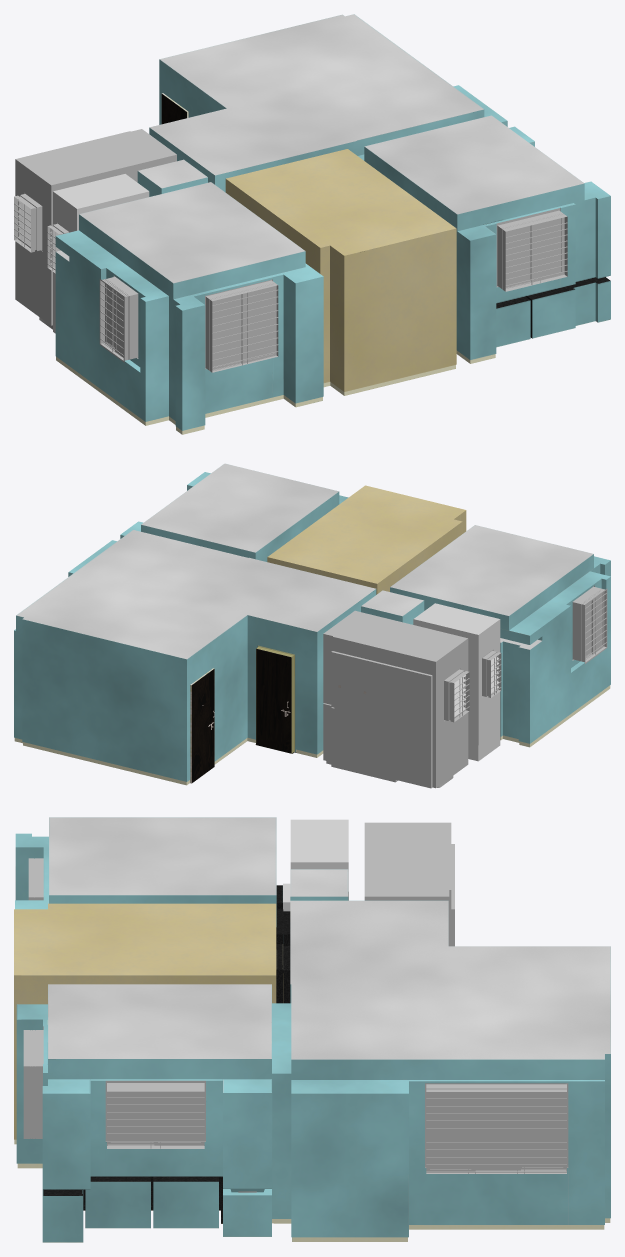
Rendered from Shantai - Third Floor.fbx.
The picture shows the model from 3 angles, top to bottom: view 1: azimuth 30°, elevation 25°; view 2: azimuth 150°, elevation 25°; view 3: azimuth 270°, elevation 25°; orthographic projection. The views are drawn at different scales.
Visible parts, largest first — view 1: Room Layout, Hall Layout, Balcony Layout, Kitchen Layout, Bathroom Layout, Toilet Layout, Kitchen Window Frame Thin, Room Window Frame Wide, Room Window Frame Thin, Room Window Wide Left Glass, Room Window Wide Right Glass, Basin Area Layout (+4 smaller); view 2: Hall Layout, Room Layout, Bathroom Layout, Balcony Layout, Kitchen Layout, Toilet Layout, Hall Door Secondary, Hall Door Primary, Room Window Frame Thin, Basin Area Layout, Bathroom Window Frame, Toilet Window Frame; view 3: Hall Layout, Kitchen Layout, Balcony Layout, Room Layout, Bathroom Layout, Hall Window Frame, Toilet Layout, Kitchen Window Frame Wide, Hall Window Right Glass, Hall Window Left Glass, Hall Window Center Glass, Kitchen Window Frame Thin (+5 smaller).
Boxes of the visible parts, x1=… form: Room Layout: x1=55, y1=182, x2=323, y2=434; Hall Layout: x1=149, y1=14, x2=507, y2=192; Balcony Layout: x1=225, y1=149, x2=456, y2=395; Kitchen Layout: x1=356, y1=109, x2=610, y2=363; Bathroom Layout: x1=15, y1=129, x2=176, y2=325; Toilet Layout: x1=53, y1=174, x2=149, y2=333; Kitchen Window Frame Thin: x1=496, y1=208, x2=567, y2=291; Room Window Frame Wide: x1=205, y1=279, x2=278, y2=372; Room Window Frame Thin: x1=99, y1=276, x2=138, y2=362; Room Window Wide Left Glass: x1=244, y1=286, x2=273, y2=360; Room Window Wide Right Glass: x1=212, y1=294, x2=241, y2=366; Basin Area Layout: x1=137, y1=158, x2=214, y2=196; Hall Layout: x1=14, y1=530, x2=375, y2=785; Room Layout: x1=390, y1=525, x2=610, y2=747; Bathroom Layout: x1=323, y1=610, x2=468, y2=788; Balcony Layout: x1=267, y1=485, x2=466, y2=594; Kitchen Layout: x1=120, y1=463, x2=348, y2=561; Toilet Layout: x1=413, y1=603, x2=500, y2=761; Hall Door Secondary: x1=256, y1=648, x2=291, y2=753; Hall Door Primary: x1=190, y1=668, x2=214, y2=783; Room Window Frame Thin: x1=572, y1=585, x2=607, y2=663; Basin Area Layout: x1=354, y1=589, x2=424, y2=624; Bathroom Window Frame: x1=444, y1=668, x2=469, y2=722; Toilet Window Frame: x1=482, y1=650, x2=501, y2=697; Hall Layout: x1=283, y1=900, x2=610, y2=1241; Kitchen Layout: x1=16, y1=984, x2=291, y2=1242; Balcony Layout: x1=14, y1=903, x2=283, y2=1144; Room Layout: x1=15, y1=817, x2=283, y2=943; Bathroom Layout: x1=364, y1=822, x2=454, y2=946; Hall Window Frame: x1=425, y1=1083, x2=568, y2=1173; Toilet Layout: x1=283, y1=819, x2=348, y2=911; Kitchen Window Frame Wide: x1=105, y1=1080, x2=205, y2=1148; Hall Window Right Glass: x1=430, y1=1092, x2=471, y2=1168; Hall Window Left Glass: x1=522, y1=1092, x2=563, y2=1167; Hall Window Center Glass: x1=476, y1=1092, x2=516, y2=1168; Kitchen Window Frame Thin: x1=23, y1=1026, x2=43, y2=1138.
Bounding box in the file's own units: 929 × 290 × 853.
